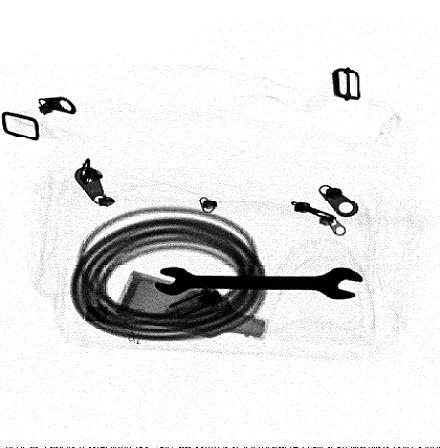Wrench: (152, 265, 363, 302)
